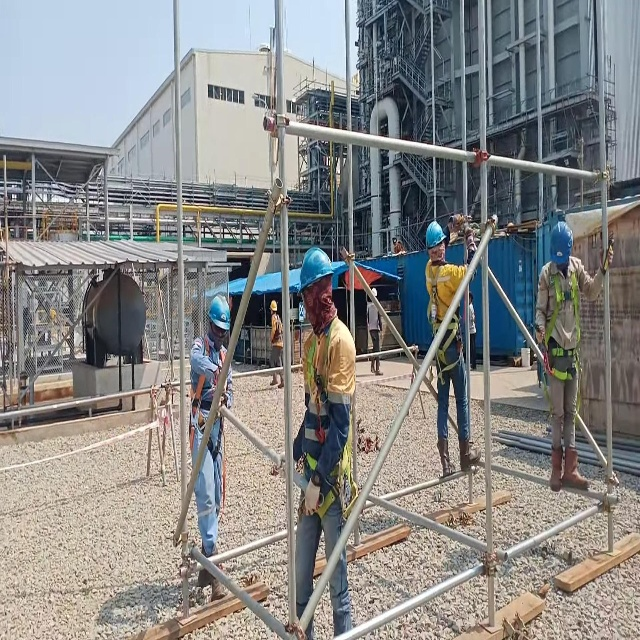Arnes_seguridad: (295, 317, 359, 521), (187, 331, 230, 523), (538, 259, 584, 385), (424, 259, 463, 380)
